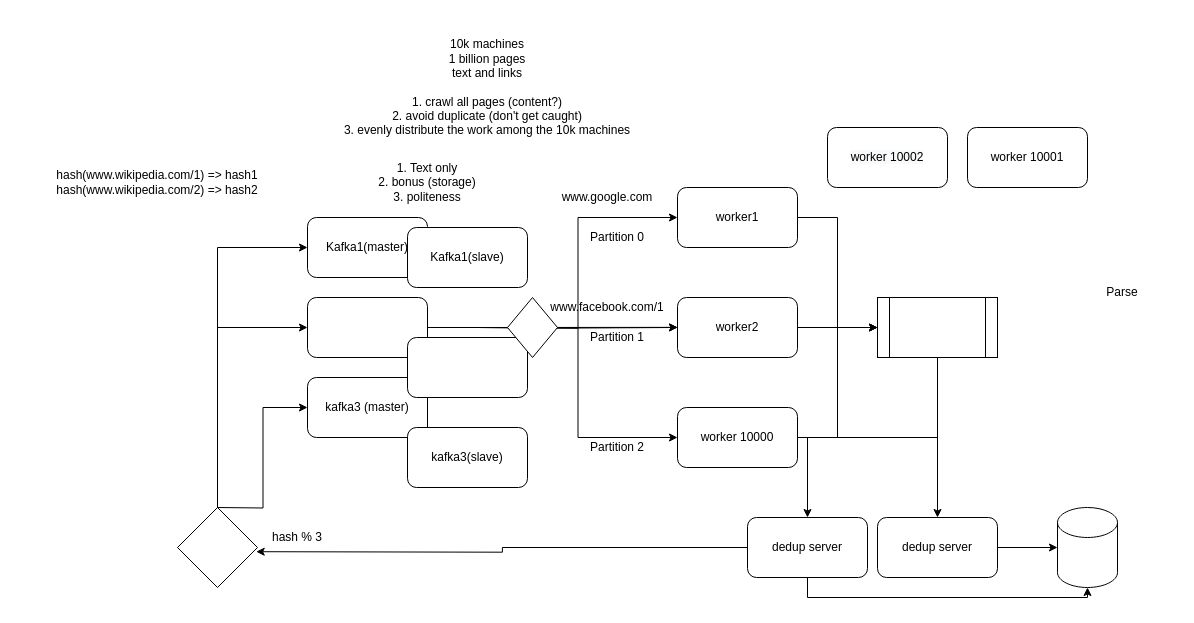
Some shapes in this 1194 by 623 pixel diagram are drawn without their labels. Each missing label, with the box of its shape:
dedup db (redis): (1056, 506, 1118, 588)
kafka: (876, 296, 998, 358)
kafka2 (master): (306, 296, 428, 358)
kafka2 (slave): (406, 336, 528, 398)
Smart LB shard and route request by the hash: (176, 506, 258, 588)
Smartlb: (506, 296, 558, 358)
